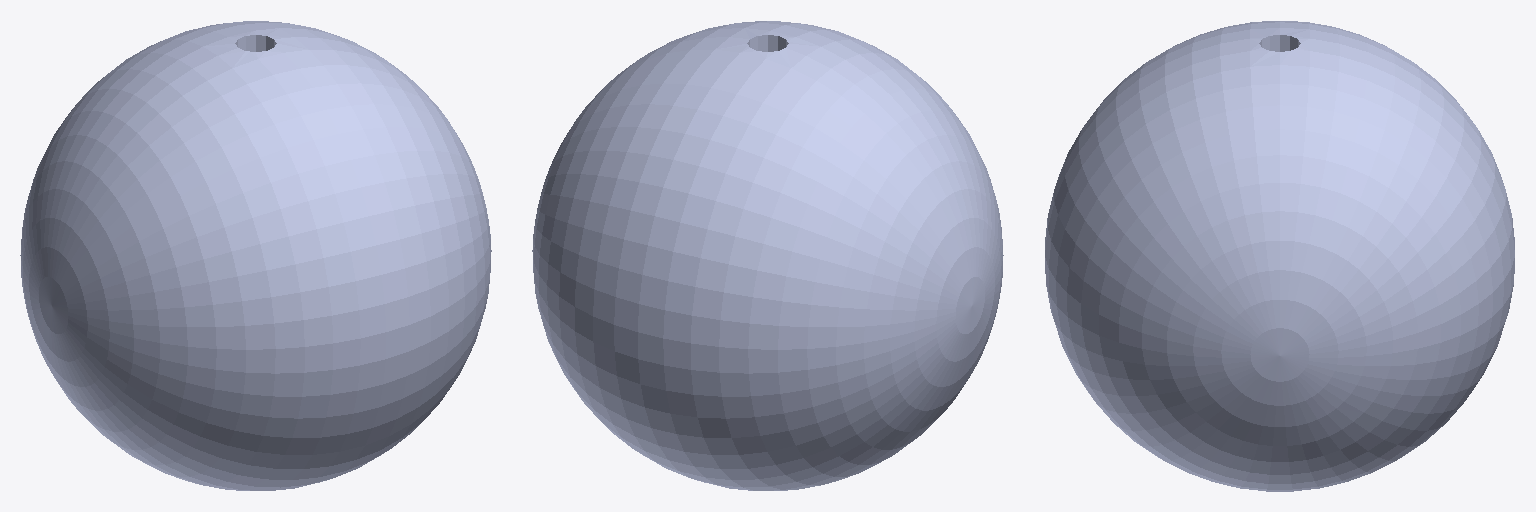
robot.urdf — yellow_buoy:
<robot
  name="yellow_buoy">
  <link
    name="yellow_buoy">
    <inertial>
      <origin
        xyz="0.1143 -2.25510000000394E-21 -6.43E-17"
        rpy="0 0 0" />
      <mass
        value="6.1833" />
      <inertia
        ixx="0.0323746474542513"
        ixy="-6.15621576657226E-38"
        ixz="-2.73006969216511E-34"
        iyy="0.0323746199184535"
        iyz="8.02012830851934E-20"
        izz="0.0326837801052245" />
    </inertial>
    <visual>
      <origin
        xyz="0 0 0"
        rpy="1.5707963267949 0 0" />
      <geometry>
        <mesh
          filename="package://yellow_buoy/meshes/boi.STL" />
      </geometry>
      <material
        name="">
        <color
          rgba="0.79216 0.81961 0.93333 1" />
      </material>
    </visual>
    <collision>
      <origin
        xyz="0 0 0"
        rpy="1.5707963267949 0 0" />
      <geometry>
        <mesh
          filename="package://yellow_buoy/meshes/boi.STL" />
      </geometry>
    </collision>
  </link>
  <gazebo reference="yellow_buoy">
    <material>Gazebo/Yellow</material>
  </gazebo>
</robot>

--- Facts derived from the render (not from the file) ---
3 views of the same robot in one strip: view 1: azimuth 30°, elevation 25°; view 2: azimuth 150°, elevation 25°; view 3: azimuth 270°, elevation 25° (orthographic).
Robot: yellow_buoy — 1 links, 0 joints (none); root link yellow_buoy; default pose: all joints at 0.
Links seen in each view (by area): view 1: yellow_buoy; view 2: yellow_buoy; view 3: yellow_buoy.
Boxes of the visible links, x1=… form: yellow_buoy: x1=20, y1=21, x2=491, y2=490; yellow_buoy: x1=532, y1=21, x2=1003, y2=490; yellow_buoy: x1=1045, y1=21, x2=1514, y2=491.
Bounding box of the posed robot: 0.2286 × 0.228 × 0.2277 m (x, y, z).
Meshes: 1 distinct files referenced, 1 mesh visuals loaded (1 binary STL).
